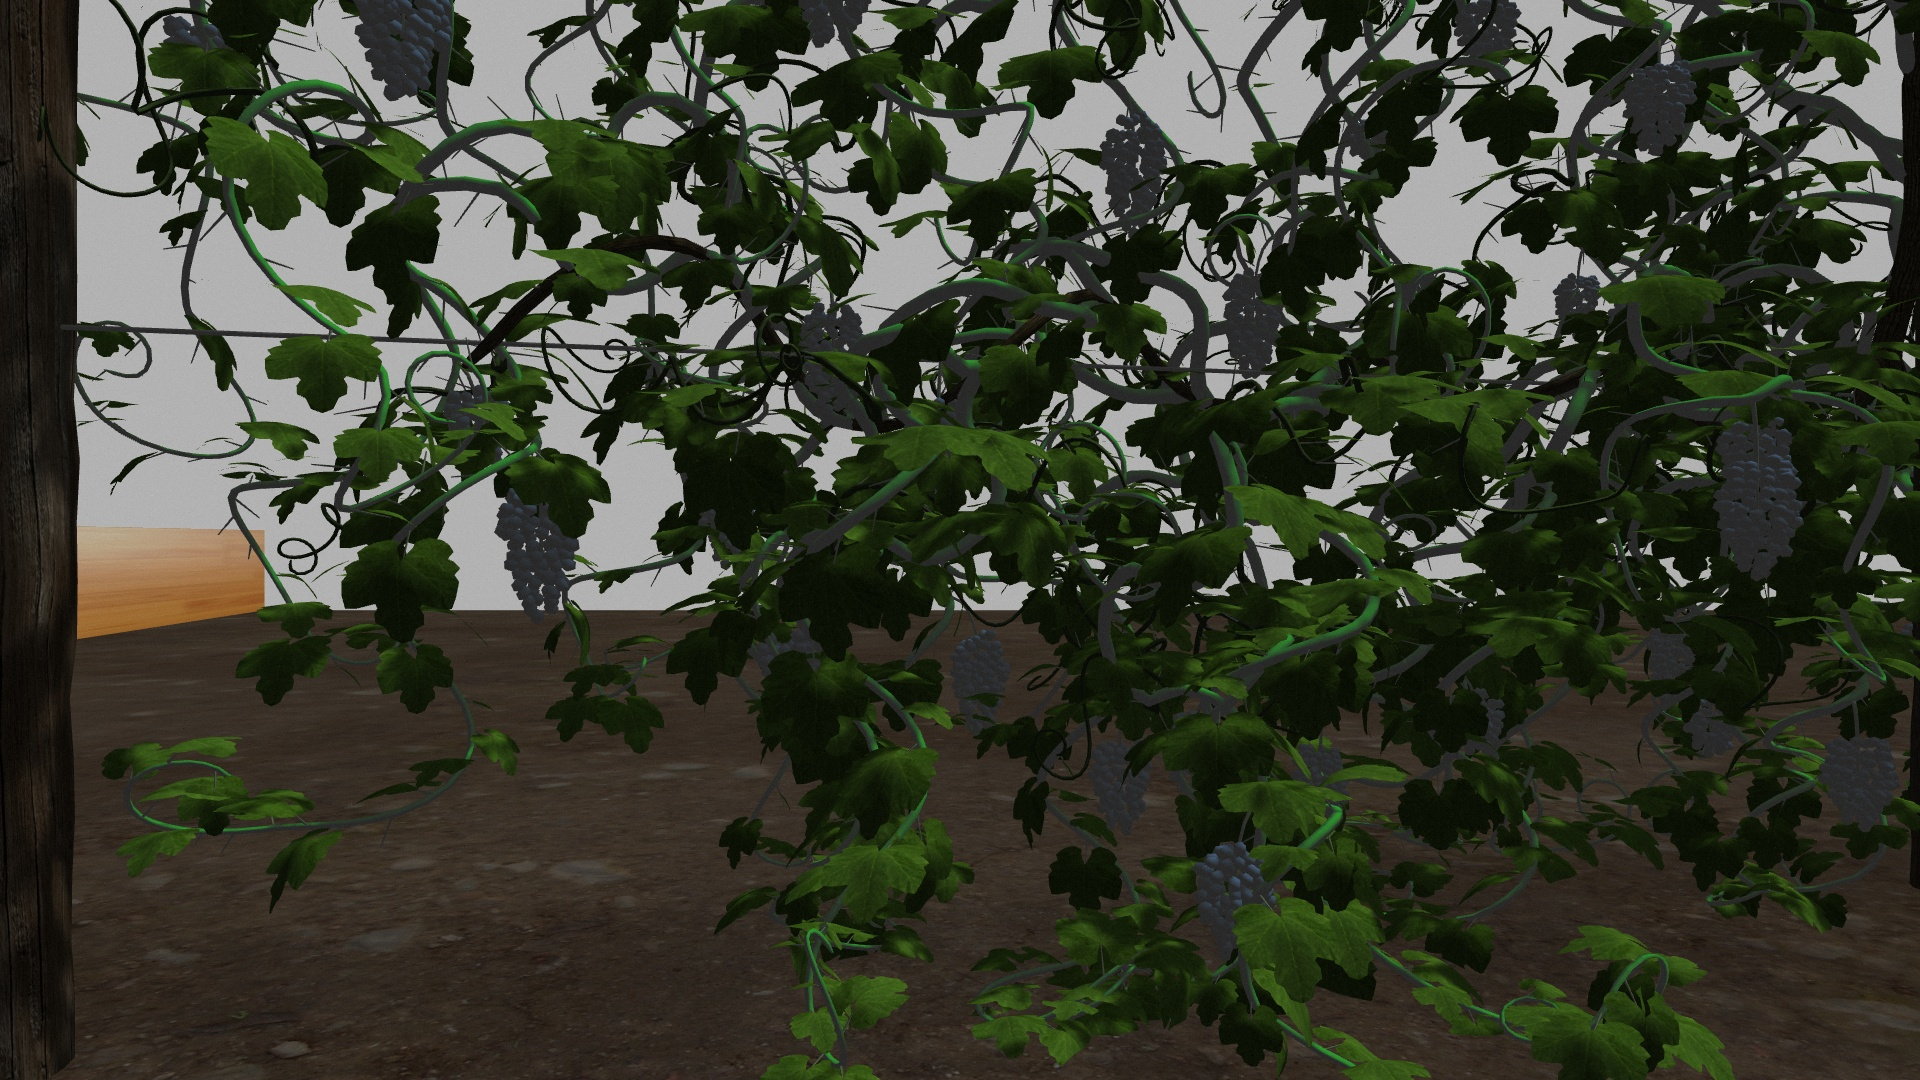grape: (495, 491, 580, 621), (352, 7, 454, 104), (1720, 464, 1797, 584), (1097, 109, 1168, 237), (1195, 840, 1266, 967), (1818, 733, 1902, 836), (1085, 725, 1154, 837), (1621, 61, 1697, 158), (799, 303, 866, 414), (1222, 270, 1282, 380), (949, 632, 1009, 724), (1455, 5, 1520, 76), (1714, 417, 1792, 472), (1642, 625, 1695, 704), (1687, 707, 1734, 760), (1553, 272, 1600, 324)
